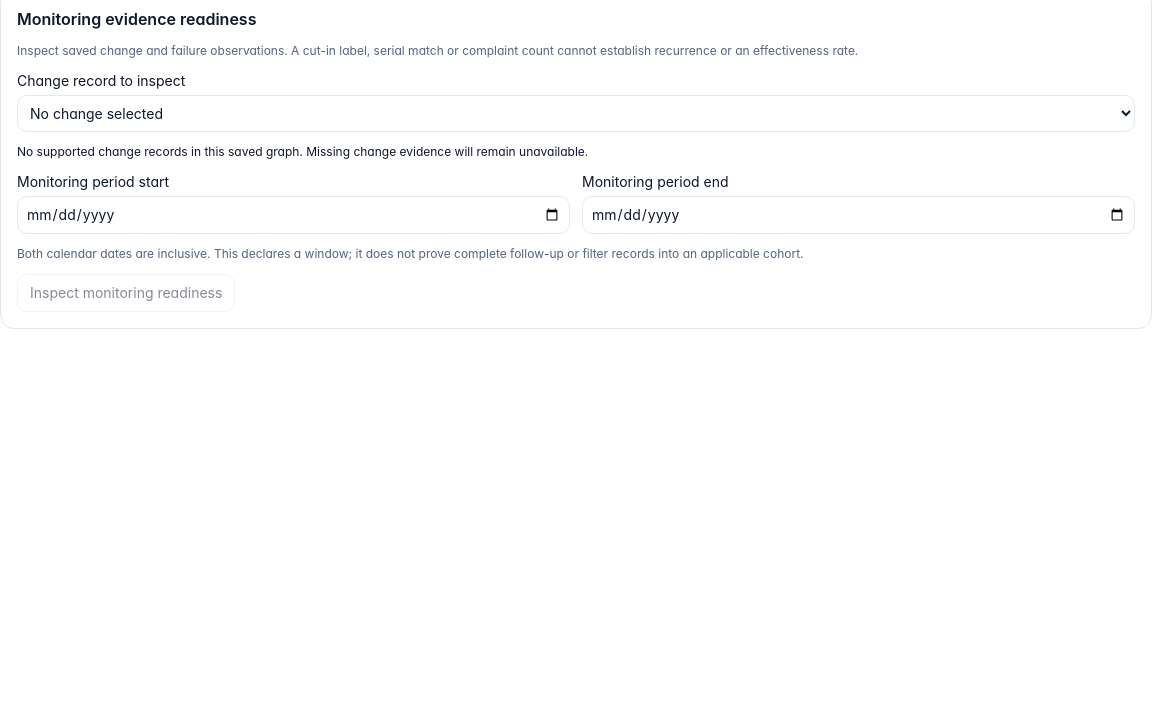
Test: handles errors and bounded pages without retaining a failed report
This screenshot has width=1152, height=710.
Type "2026-01-01" into the date field labelled "Monitoring period start" at [294, 215], box [17, 196, 570, 234]
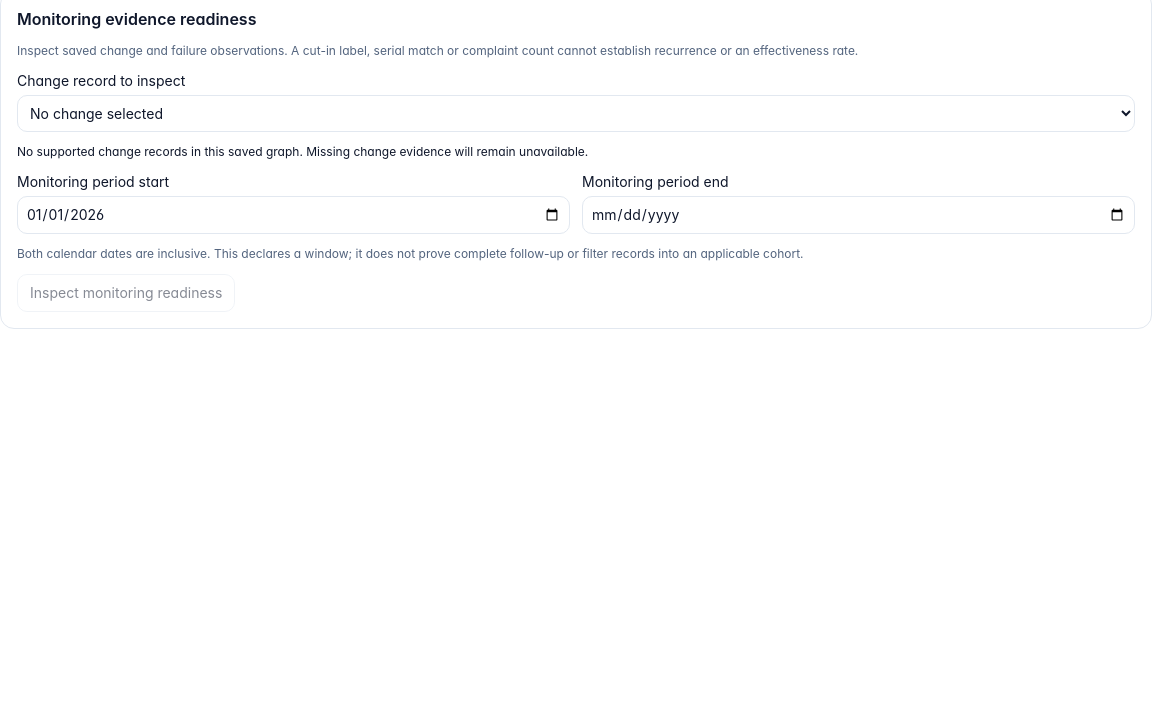
Type "2026-12-31" into the date field labelled "Monitoring period end" at [858, 215], box [582, 196, 1135, 234]
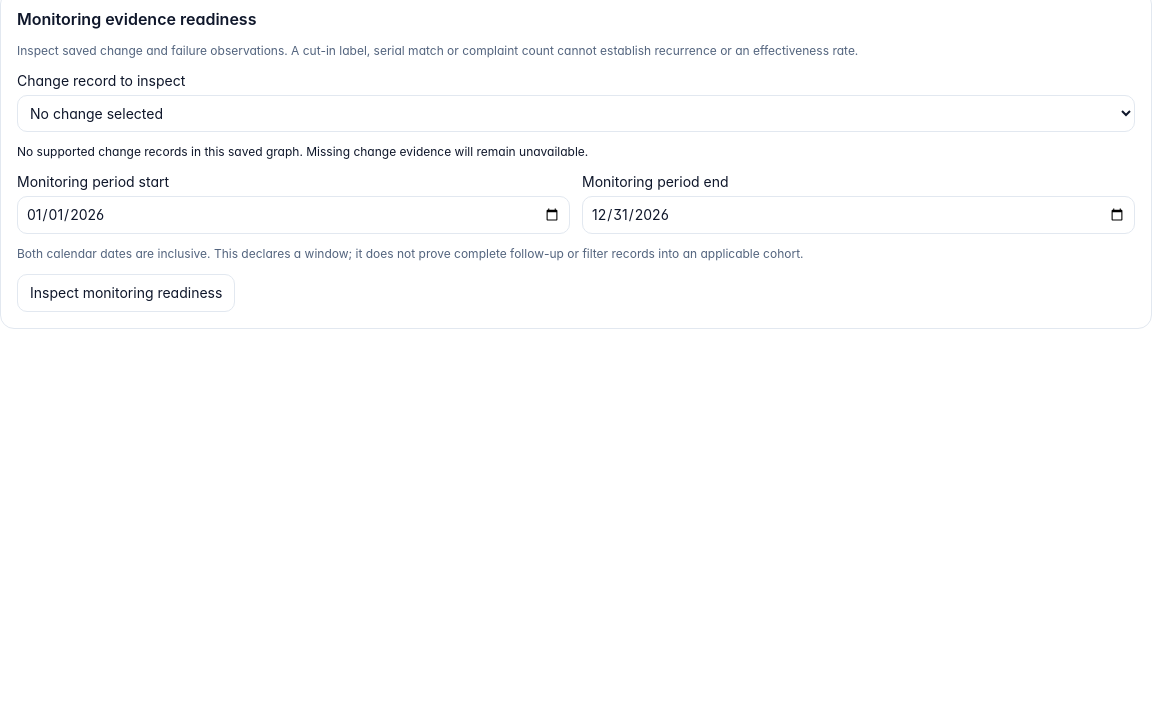
Click the button "Inspect monitoring readiness" at [126, 293], box [17, 274, 235, 312]
(page scrolled)
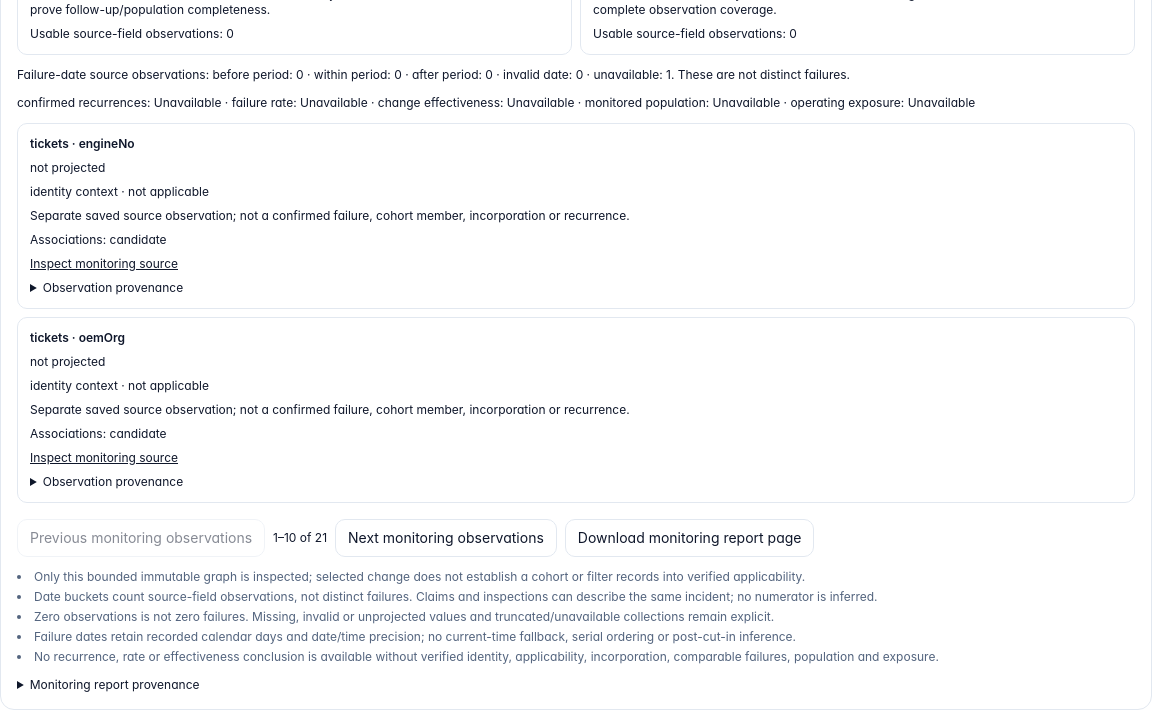
Click the button "Next monitoring observations" at [446, 538], box [335, 519, 557, 557]
(page scrolled)
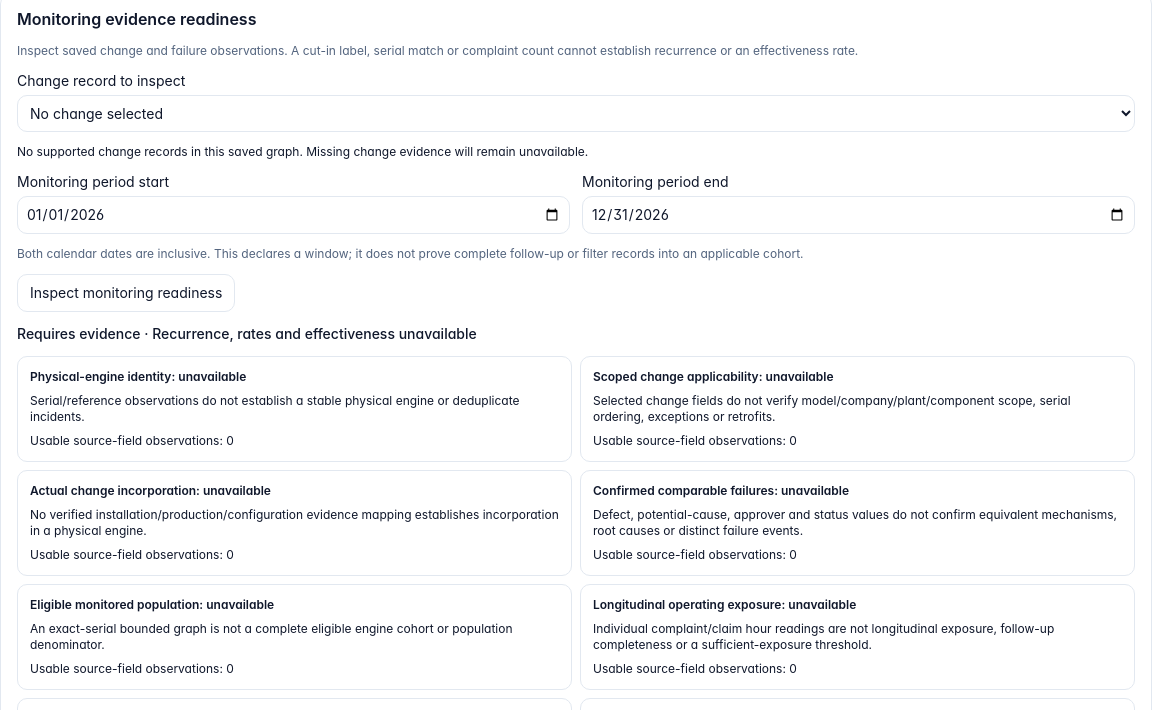
Click the button "Inspect monitoring readiness" at [126, 293], box [17, 274, 235, 312]
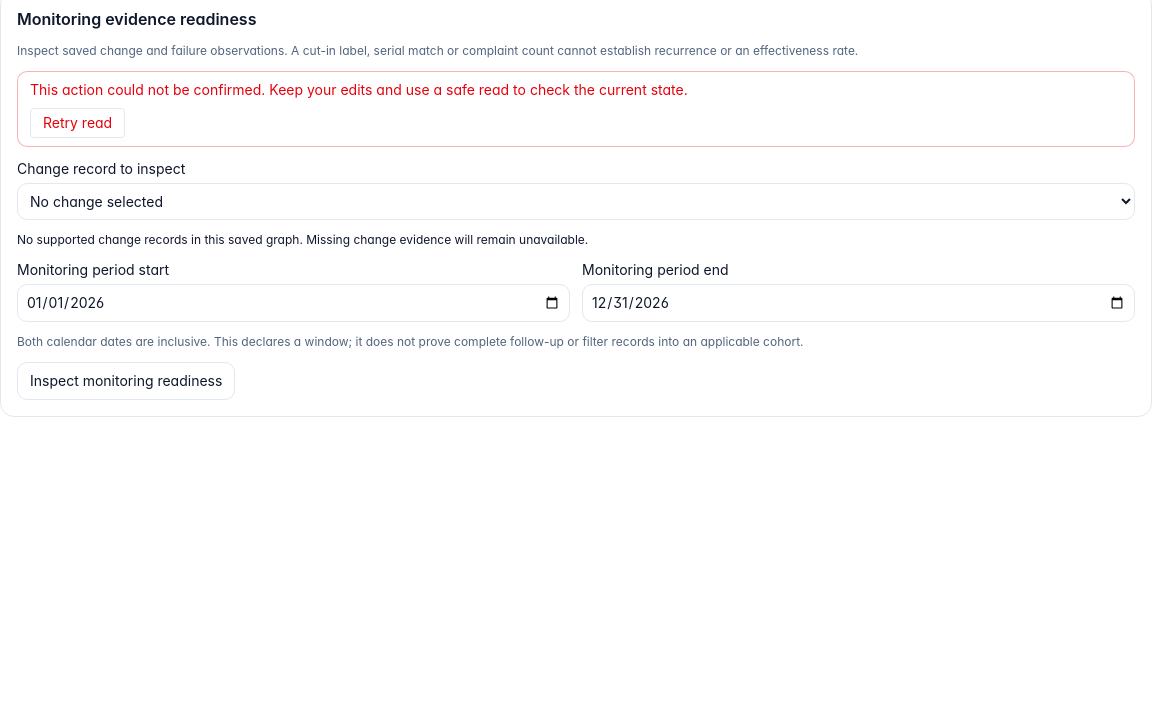
Now the button "Retry read" is shown, box [30, 108, 125, 138]
Now the text "Requires evidence · Recurrence, rates and effectiveness unavailable" is gone
